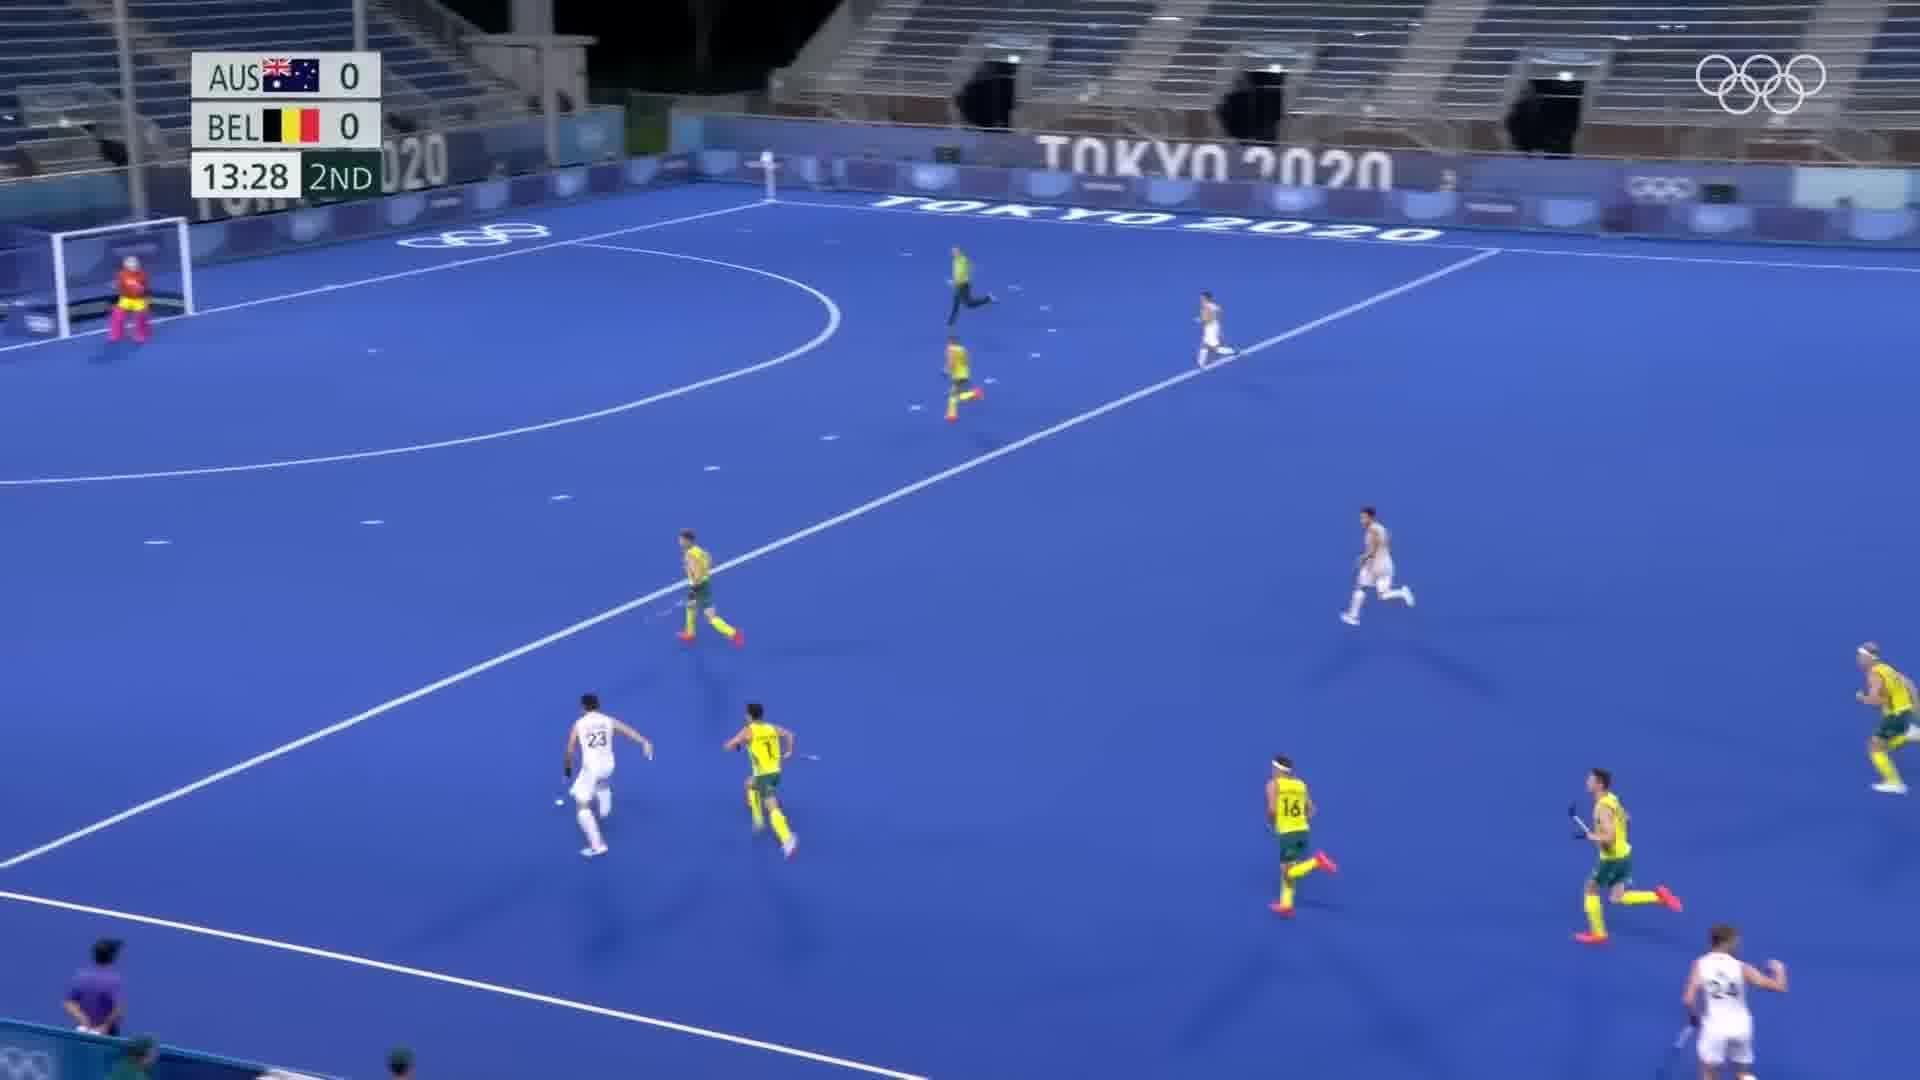ball: (551, 793, 564, 814)
